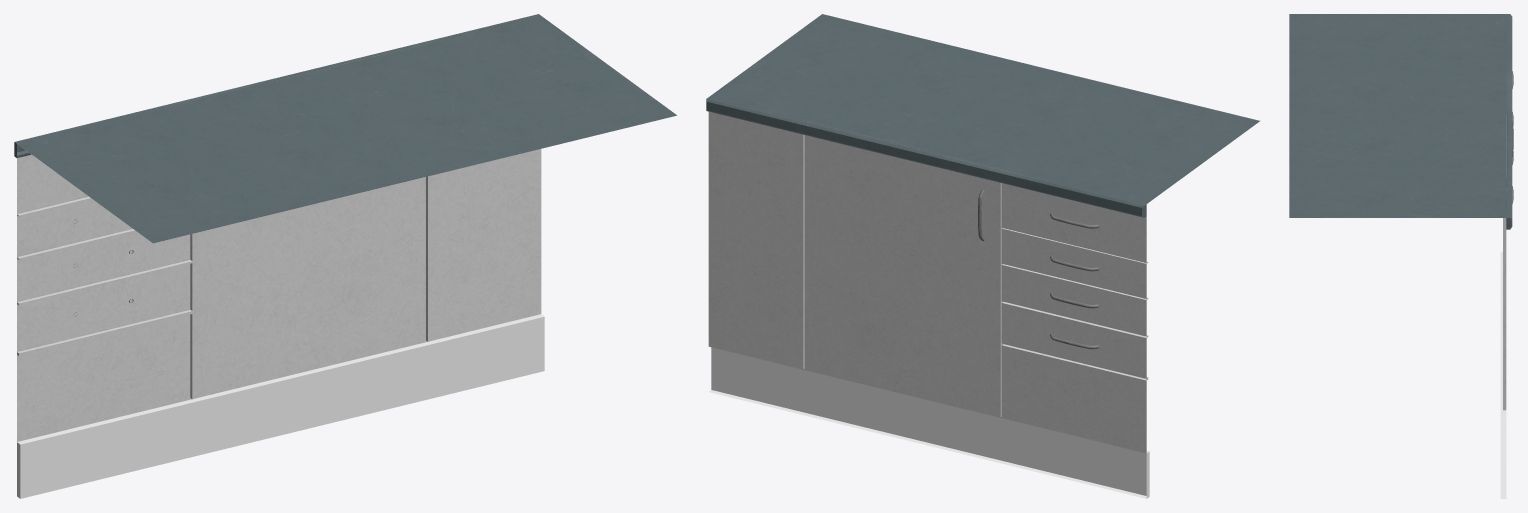
File: encimera2.dae
The picture shows the model from 3 angles, left to right: view 1: azimuth 30°, elevation 25°; view 2: azimuth 150°, elevation 25°; view 3: azimuth 270°, elevation 25°; orthographic projection. The views are drawn at different scales.
Parts seen in each view (by area): view 1: Cubo.001; view 2: Cubo.001; view 3: Cubo.001.
Part boxes in pixels (x1,y1,x2,y2): Cubo.001: [14, 14, 676, 498]; Cubo.001: [706, 14, 1259, 498]; Cubo.001: [1289, 14, 1513, 498].
Size of the model in its own units: 1.4 by 0.6516 by 0.8997.
